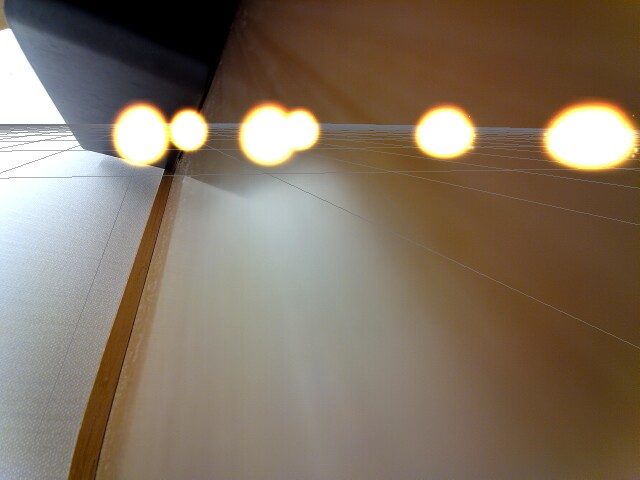firebig: (533, 93, 638, 177)
